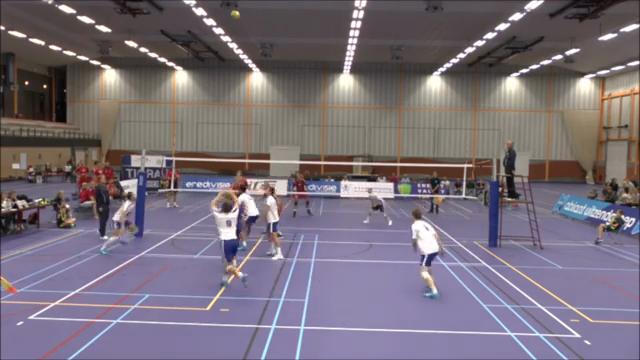alzata: (203, 185, 250, 291)
